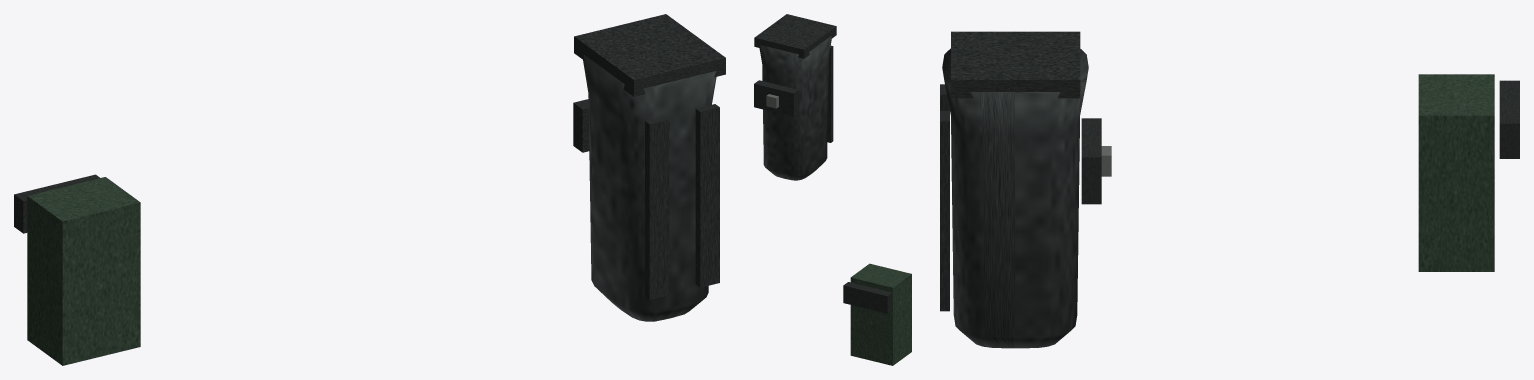
File: PZ_MorrowTrail35_Sheath_UtilityHolster.glb
3 renders of one model, left to right at view 1: azimuth 30°, elevation 25°; view 2: azimuth 150°, elevation 25°; view 3: azimuth 270°, elevation 25°, orthographic. The views are drawn at different scales.
Parts seen in each view (by area): view 1: Empty_Weatherproof_Multitool_Sheath, Holster_OpenTop_Body, Sheath_Top_Binding, Sheath_MOLLE_Anchor_-0.022, Sheath_MOLLE_Anchor_+0.022, Holster_Retention_Strap, Sheath_Front_Elastic_Retention; view 2: Empty_Weatherproof_Multitool_Sheath, Holster_OpenTop_Body, Sheath_Top_Binding, Sheath_Front_Elastic_Retention, Holster_Retention_Strap, Sheath_MOLLE_Anchor_-0.022, Sheath_Snap_Metal; view 3: Empty_Weatherproof_Multitool_Sheath, Holster_OpenTop_Body, Sheath_Top_Binding, Sheath_MOLLE_Anchor_+0.022, Sheath_Front_Elastic_Retention, Holster_Retention_Strap.
Boxes of the visible parts, bbox=[...] form: Empty_Weatherproof_Multitool_Sheath: bbox=[583, 54, 716, 321]; Holster_OpenTop_Body: bbox=[27, 177, 140, 365]; Sheath_Top_Binding: bbox=[574, 14, 725, 96]; Sheath_MOLLE_Anchor_-0.022: bbox=[645, 116, 669, 299]; Sheath_MOLLE_Anchor_+0.022: bbox=[695, 104, 719, 287]; Holster_Retention_Strap: bbox=[14, 174, 99, 233]; Sheath_Front_Elastic_Retention: bbox=[573, 99, 589, 152]; Empty_Weatherproof_Multitool_Sheath: bbox=[759, 36, 831, 180]; Holster_OpenTop_Body: bbox=[850, 263, 911, 365]; Sheath_Top_Binding: bbox=[754, 14, 836, 58]; Sheath_Front_Elastic_Retention: bbox=[754, 80, 798, 116]; Holster_Retention_Strap: bbox=[843, 282, 892, 313]; Sheath_MOLLE_Anchor_-0.022: bbox=[827, 45, 833, 142]; Sheath_Snap_Metal: bbox=[766, 94, 778, 108]; Empty_Weatherproof_Multitool_Sheath: bbox=[942, 48, 1088, 348]; Holster_OpenTop_Body: bbox=[1418, 74, 1494, 271]; Sheath_Top_Binding: bbox=[951, 31, 1080, 98]; Sheath_MOLLE_Anchor_+0.022: bbox=[940, 111, 949, 311]; Sheath_Front_Elastic_Retention: bbox=[1081, 118, 1101, 204]; Holster_Retention_Strap: bbox=[1499, 80, 1519, 158].
Size of the model in its own units: 0.3935 by 0.297 by 0.4035.
4 materials, 4 textured.
